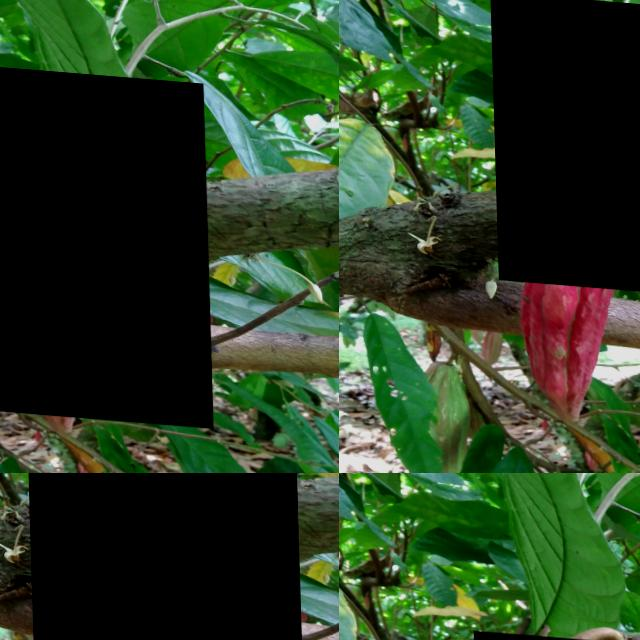Sana: (0, 59, 210, 421), (23, 473, 302, 640), (489, 0, 640, 286), (339, 0, 529, 207)
